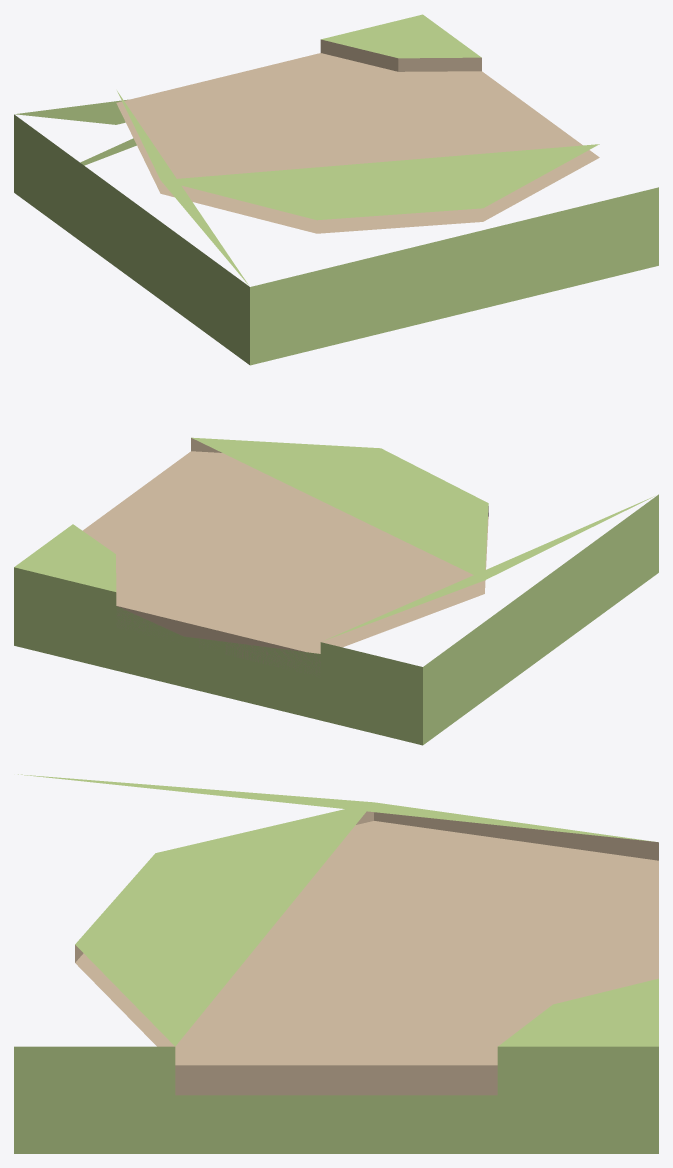
The model's file is roadTile_016.glb.
The picture shows the model from 3 angles, top to bottom: view 1: azimuth 30°, elevation 25°; view 2: azimuth 150°, elevation 25°; view 3: azimuth 270°, elevation 25°; orthographic projection. The views are drawn at different scales.
Visible parts, largest first — view 1: Mesh1 Group1 Model; view 2: Mesh1 Group1 Model; view 3: Mesh1 Group1 Model.
Part boxes in pixels (bbox=[...]): Mesh1 Group1 Model: bbox=[14, 14, 658, 365]; Mesh1 Group1 Model: bbox=[14, 437, 658, 745]; Mesh1 Group1 Model: bbox=[14, 774, 658, 1153].
Bounding box in the file's own units: 3 × 0.55 × 3.
